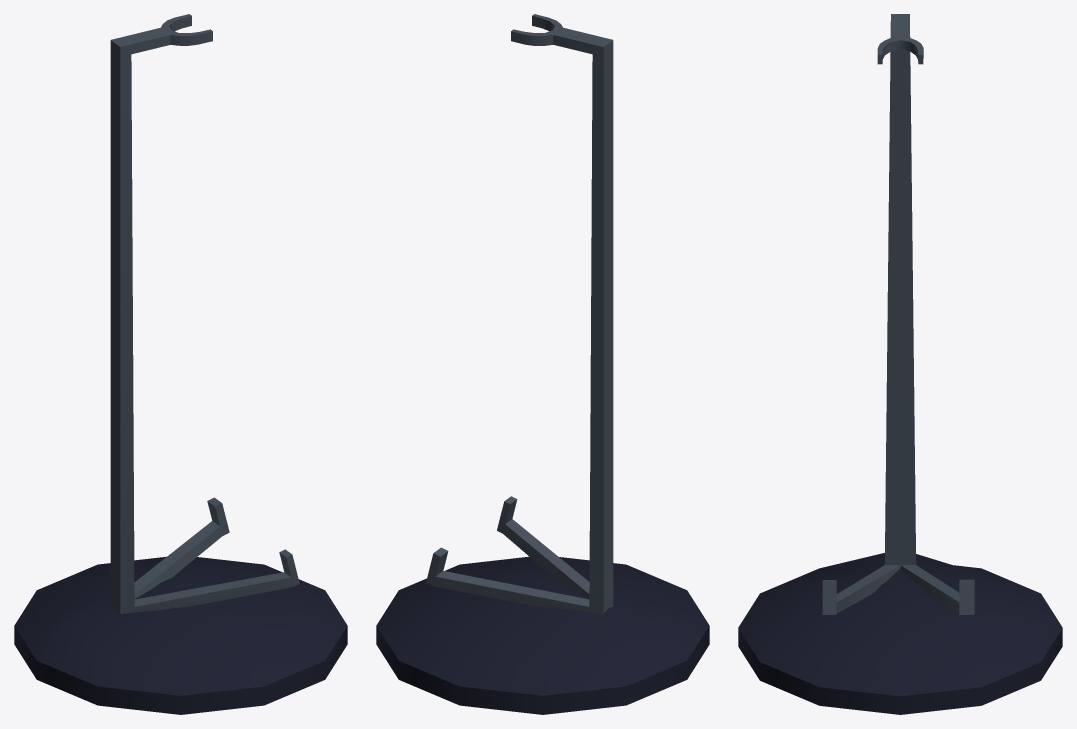
The model's file is HoldGuitarra.fbx.
3 views of the same model, side by side, from view 1: azimuth 30°, elevation 25°; view 2: azimuth 150°, elevation 25°; view 3: azimuth 270°, elevation 25° (orthographic). The views are drawn at different scales.
Parts seen in each view (by area): view 1: HoldGuitarra; view 2: HoldGuitarra; view 3: HoldGuitarra.
Boxes of the visible parts, bbox=[...] form: HoldGuitarra: bbox=[14, 14, 347, 714]; HoldGuitarra: bbox=[376, 14, 709, 714]; HoldGuitarra: bbox=[738, 14, 1062, 714].
Size of the model in its own units: 200 by 409 by 200.
1 material, 1 textured.
